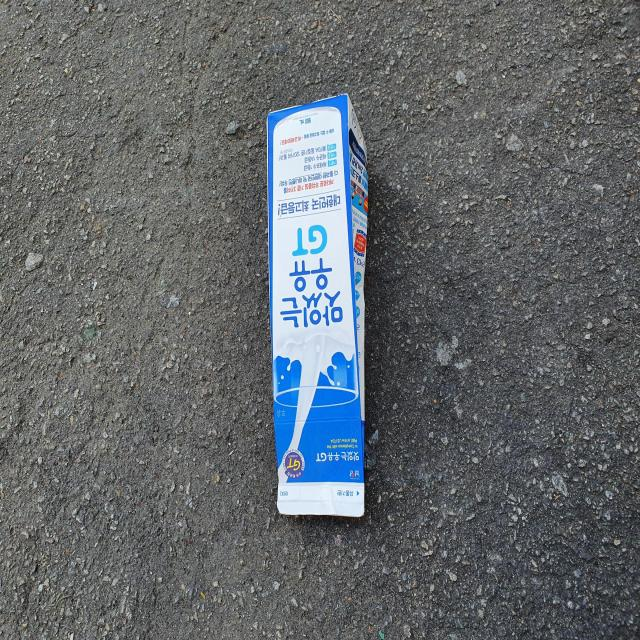paperpack: (267, 94, 369, 518)
